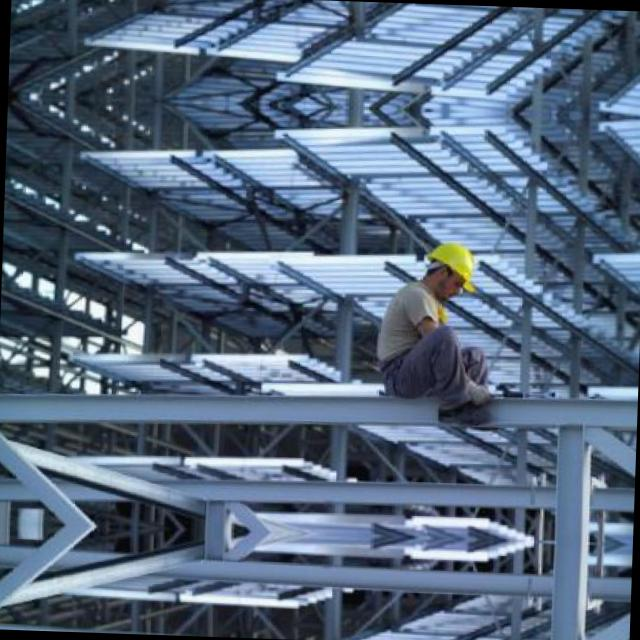helmet: (419, 234, 483, 298)
